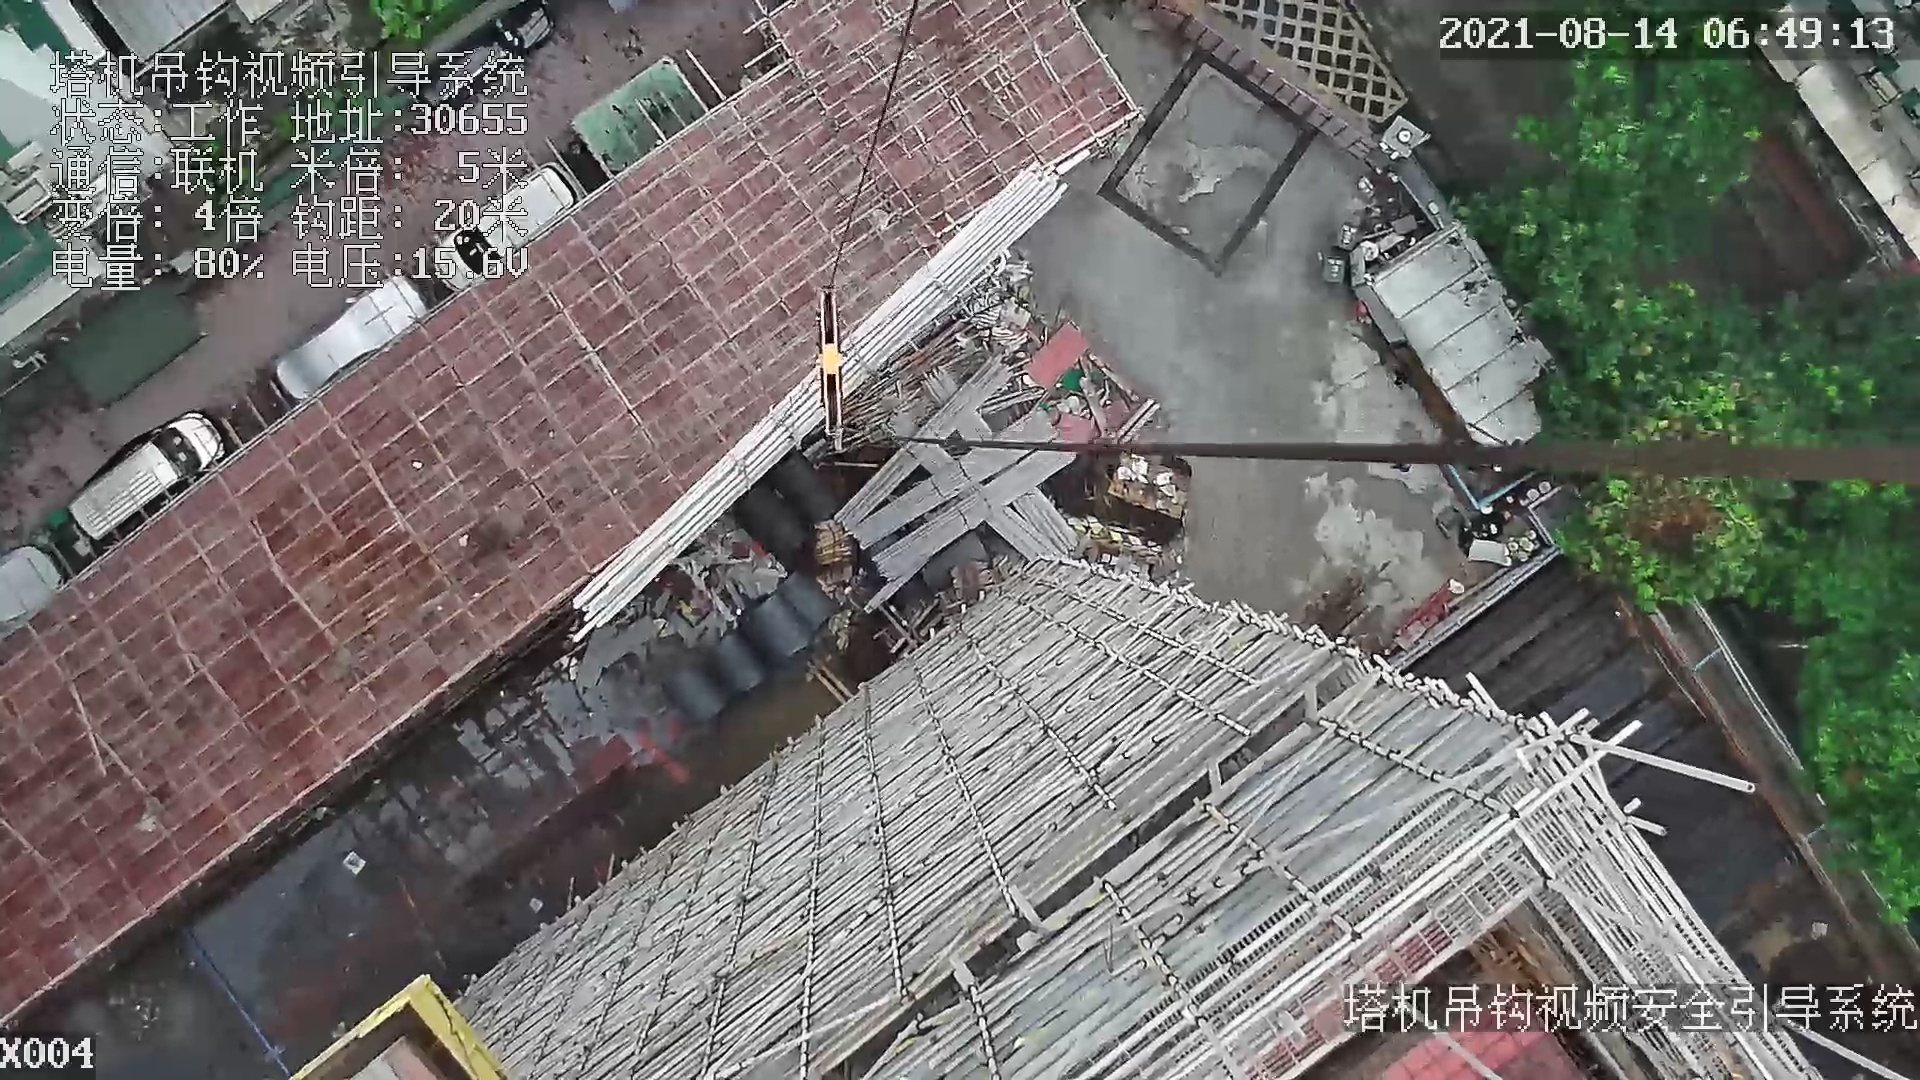hook: (810, 287, 858, 442)
